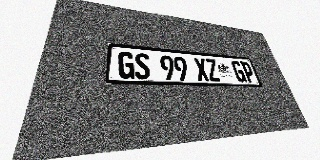9: (159, 55, 176, 80), (173, 56, 189, 80)
G: (118, 51, 135, 79), (231, 61, 247, 82)
P: (240, 62, 256, 82)
S: (134, 52, 151, 79)
X: (193, 57, 210, 81)
Z: (204, 58, 221, 81)
